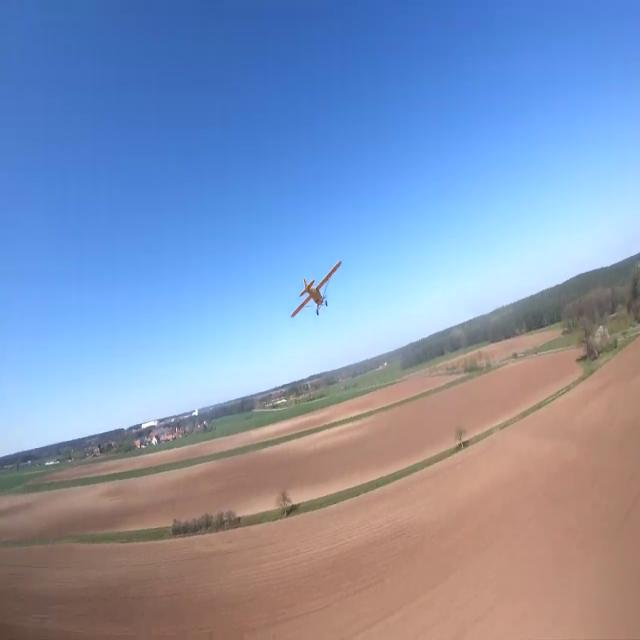iha: (290, 260, 341, 322)
